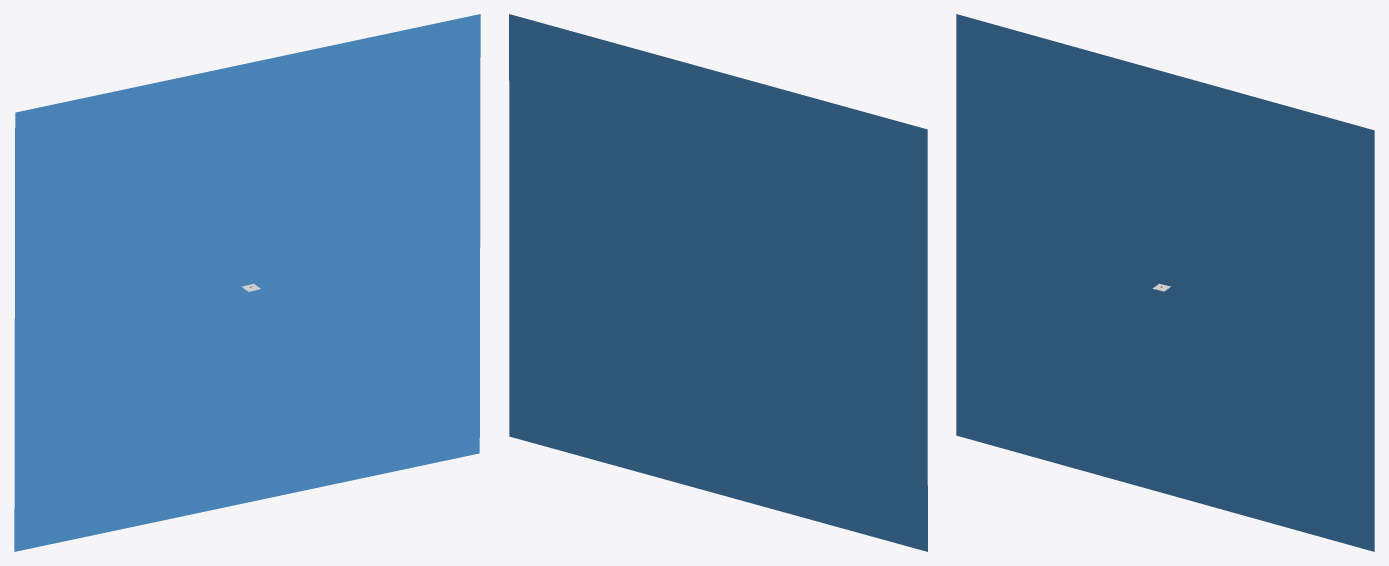
File: background.glb
3 renders of one model, left to right at view 1: azimuth 30°, elevation 25°; view 2: azimuth 150°, elevation 25°; view 3: azimuth 330°, elevation 25°, orthographic. The views are drawn at different scales.
Visible parts, largest first — view 1: Plane; view 2: Plane; view 3: Plane.
Boxes of the visible parts, bbox=[...] form: Plane: bbox=[14, 14, 480, 551]; Plane: bbox=[509, 14, 927, 551]; Plane: bbox=[956, 14, 1374, 551].
Size of the model in its own units: 683 by 637 by 39.63.
